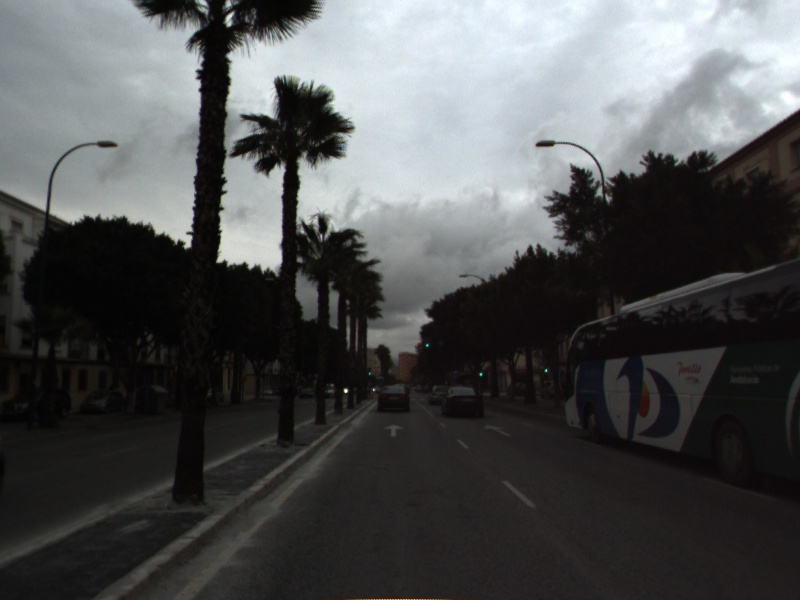STRAIGHT: (481, 422, 514, 439), (382, 422, 406, 439)
